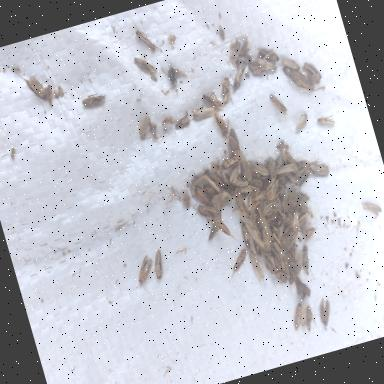pbw: (237, 203, 263, 245), (211, 213, 239, 248), (20, 70, 46, 106), (248, 250, 270, 292), (246, 219, 270, 256), (225, 248, 253, 278), (132, 255, 158, 286), (227, 60, 253, 90), (134, 51, 159, 80), (134, 24, 158, 54), (202, 89, 228, 115), (229, 39, 254, 66), (149, 249, 168, 281), (289, 302, 309, 332), (264, 246, 284, 275), (213, 108, 230, 142), (261, 178, 283, 204), (316, 297, 335, 327), (216, 76, 236, 104), (194, 183, 214, 211), (256, 43, 280, 66), (272, 202, 292, 229), (270, 91, 289, 119), (255, 53, 279, 75), (134, 116, 156, 140), (30, 72, 48, 100), (204, 172, 224, 197), (303, 60, 323, 85), (239, 221, 255, 252), (190, 103, 216, 122), (291, 248, 309, 275), (80, 90, 107, 108), (297, 244, 314, 272), (362, 198, 384, 219), (249, 160, 272, 180), (293, 272, 308, 302), (248, 188, 270, 208), (225, 162, 244, 184), (284, 152, 300, 178), (300, 222, 320, 242), (294, 169, 315, 188), (228, 128, 242, 156), (302, 306, 317, 332), (220, 154, 244, 170), (292, 210, 314, 227), (242, 195, 258, 218), (274, 238, 288, 264), (277, 142, 292, 166), (274, 162, 298, 177), (198, 202, 218, 220), (292, 114, 312, 132), (272, 248, 287, 272), (282, 57, 302, 74), (309, 163, 330, 179), (298, 304, 312, 327), (298, 280, 314, 300), (218, 165, 231, 189), (289, 214, 303, 236), (285, 265, 299, 287), (316, 114, 338, 128), (228, 175, 248, 190), (42, 84, 56, 105), (210, 191, 230, 205), (272, 231, 285, 252), (280, 222, 297, 238), (173, 116, 191, 130), (251, 64, 270, 77), (149, 122, 161, 142), (286, 170, 299, 188), (239, 182, 255, 196), (222, 187, 234, 204)
